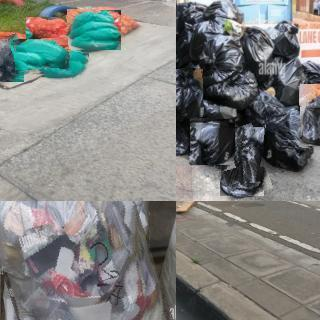Garbage: (0, 201, 165, 320), (215, 125, 269, 199), (261, 108, 315, 172), (203, 64, 259, 107), (193, 16, 240, 67), (67, 10, 121, 50), (190, 119, 235, 165), (176, 1, 206, 65), (36, 46, 89, 80), (14, 38, 69, 70), (272, 58, 306, 105), (176, 68, 203, 117), (299, 83, 320, 145), (0, 36, 26, 85), (240, 26, 273, 61), (26, 17, 73, 39), (274, 19, 298, 59), (299, 59, 320, 94)
